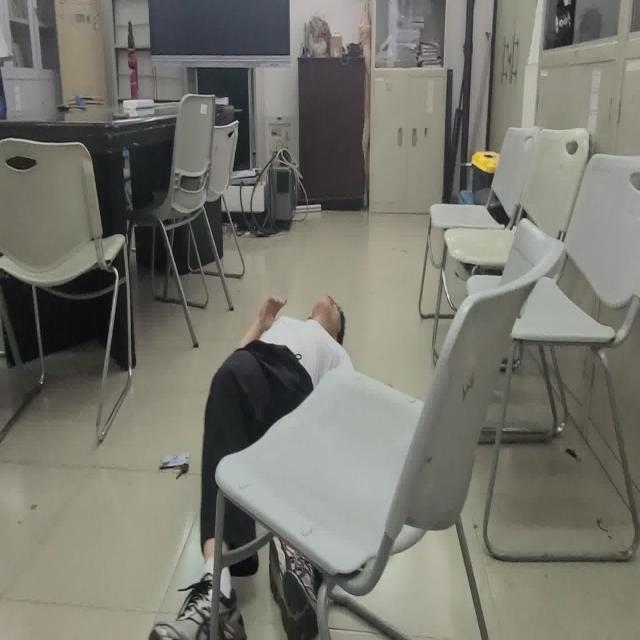Fall-Detected: (150, 291, 346, 640)
